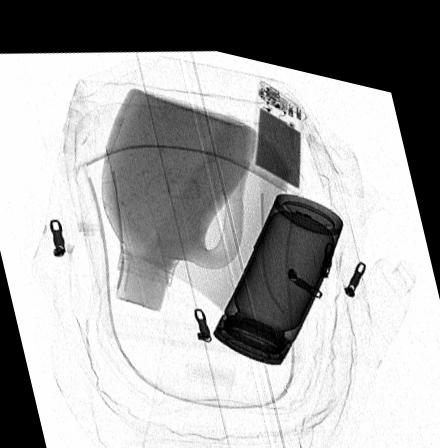Powerbank: (250, 67, 303, 175)
